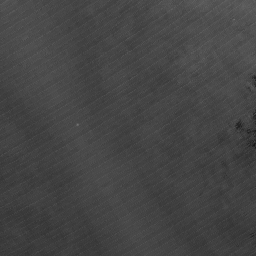Target: (73, 121, 80, 128)
